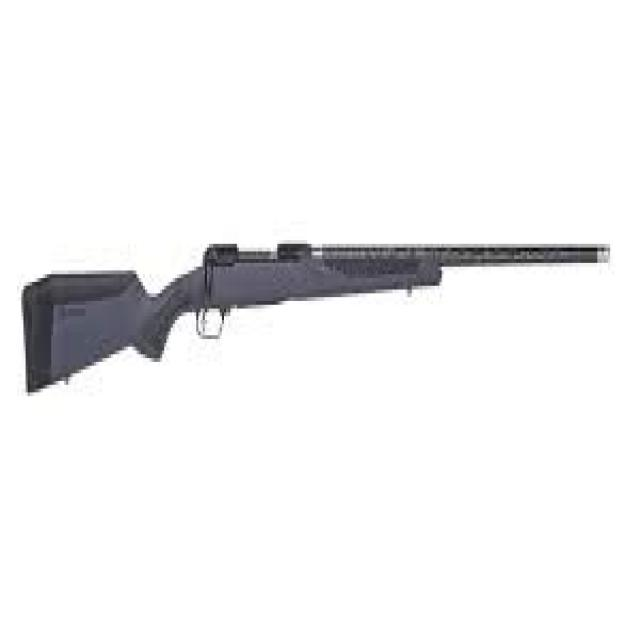rifle: (17, 229, 621, 411)
